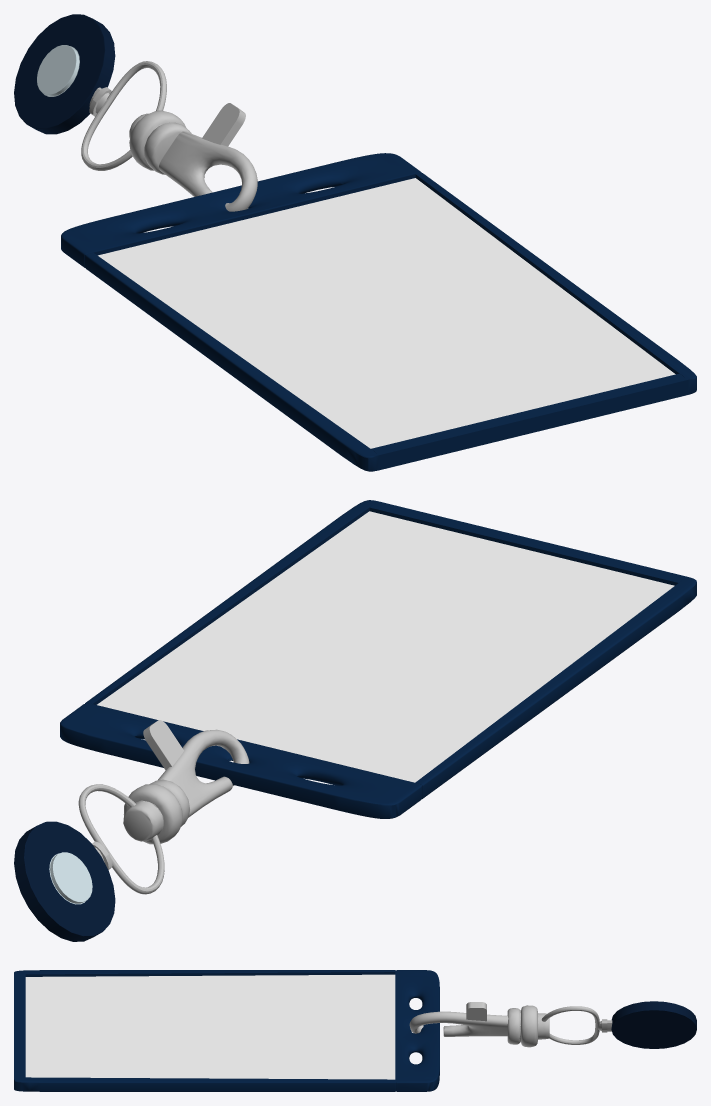
File: SM_Env_Badge .fbx
The picture shows the model from 3 angles, top to bottom: view 1: azimuth 30°, elevation 25°; view 2: azimuth 150°, elevation 25°; view 3: azimuth 270°, elevation 25°; orthographic projection. The views are drawn at different scales.
Visible parts, largest first — view 1: Badge; view 2: Badge; view 3: Badge.
Boxes of the visible parts, x1,y1,x2,y2 form: Badge: [14, 14, 696, 471]; Badge: [14, 500, 696, 941]; Badge: [14, 970, 696, 1091].
Size of the model in its own units: 0.0624 by 0.0181 by 0.1598.
